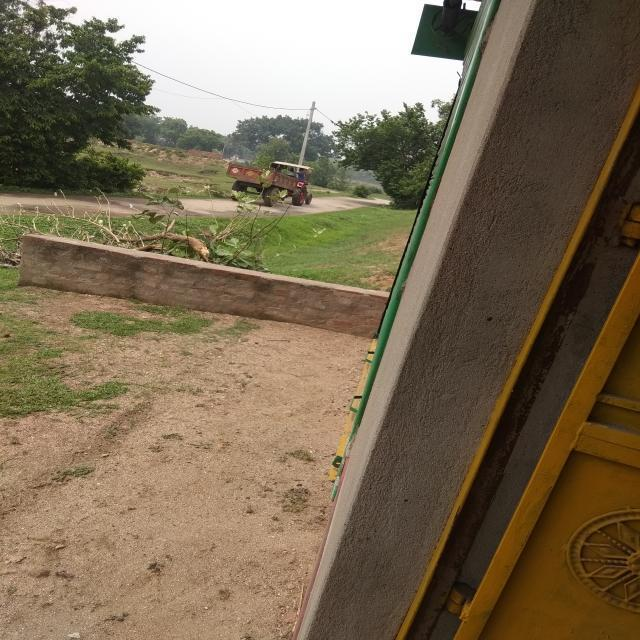tractor_back: (225, 152, 318, 208)
